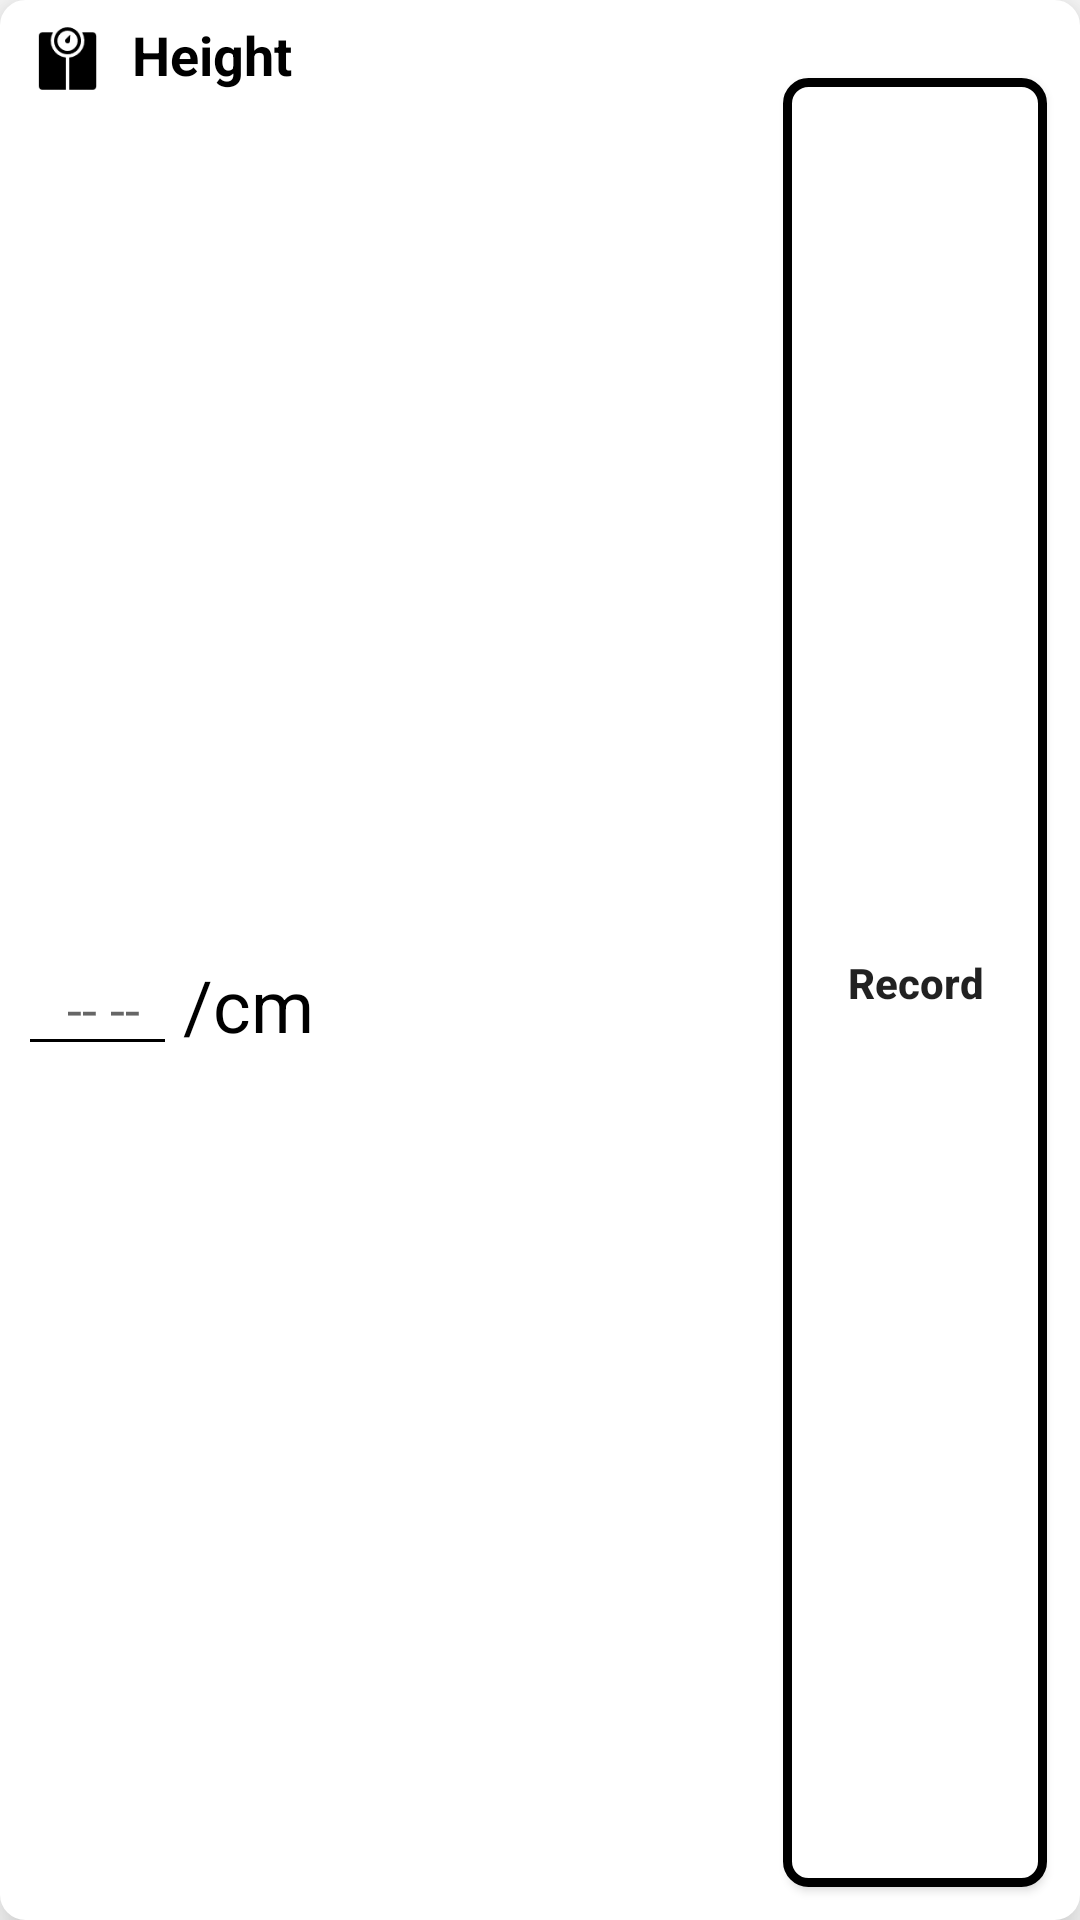

Named icons in this screenshot (1080px×1920px) and their centers, point (x, y):
scale: point (67, 58)
